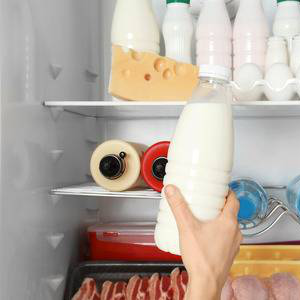milk: (153, 64, 234, 256), (108, 1, 161, 101), (195, 1, 235, 64), (232, 1, 267, 66), (161, 1, 192, 61)
